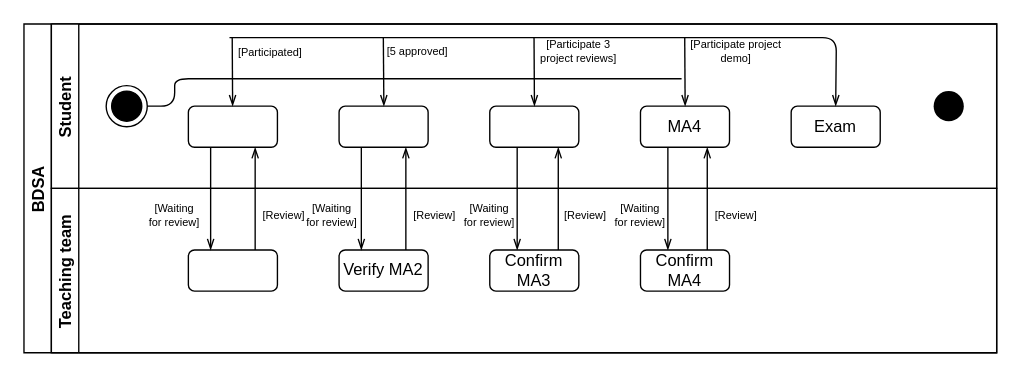
Image size: 1021x377. Some labels were removed from this diagram. Each missing label, with the centre of its shape:
Confirm MA1: (232,270)
MA1: (232,126)
MA2: (383,126)
MA3: (533,126)
